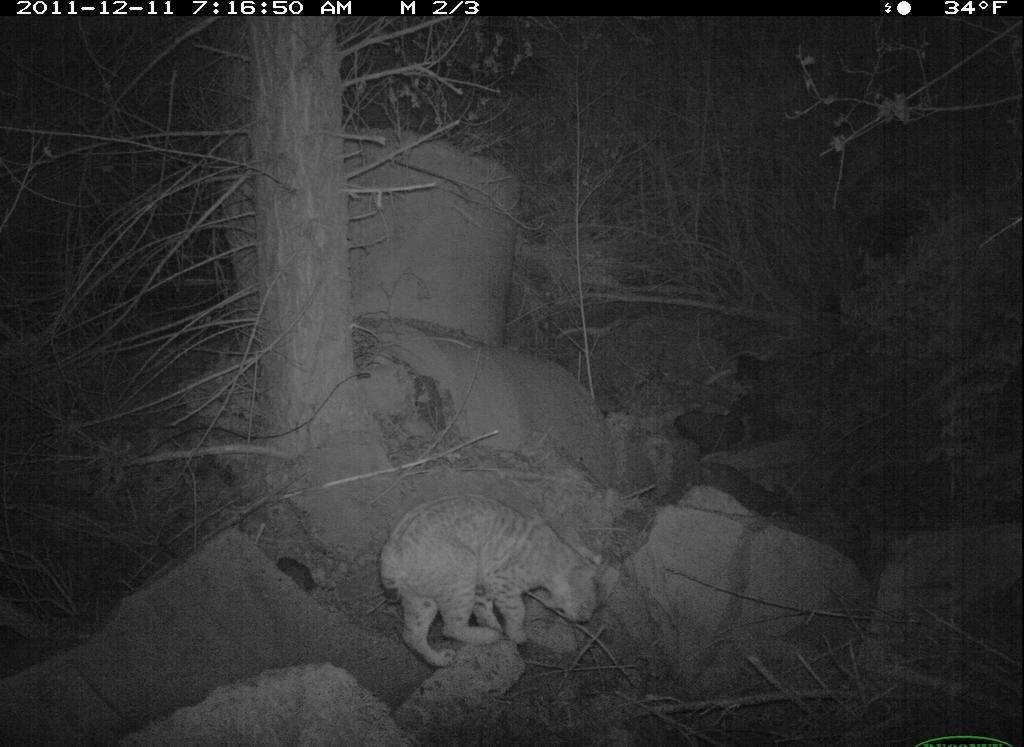bobcat: (378, 500, 612, 676)
